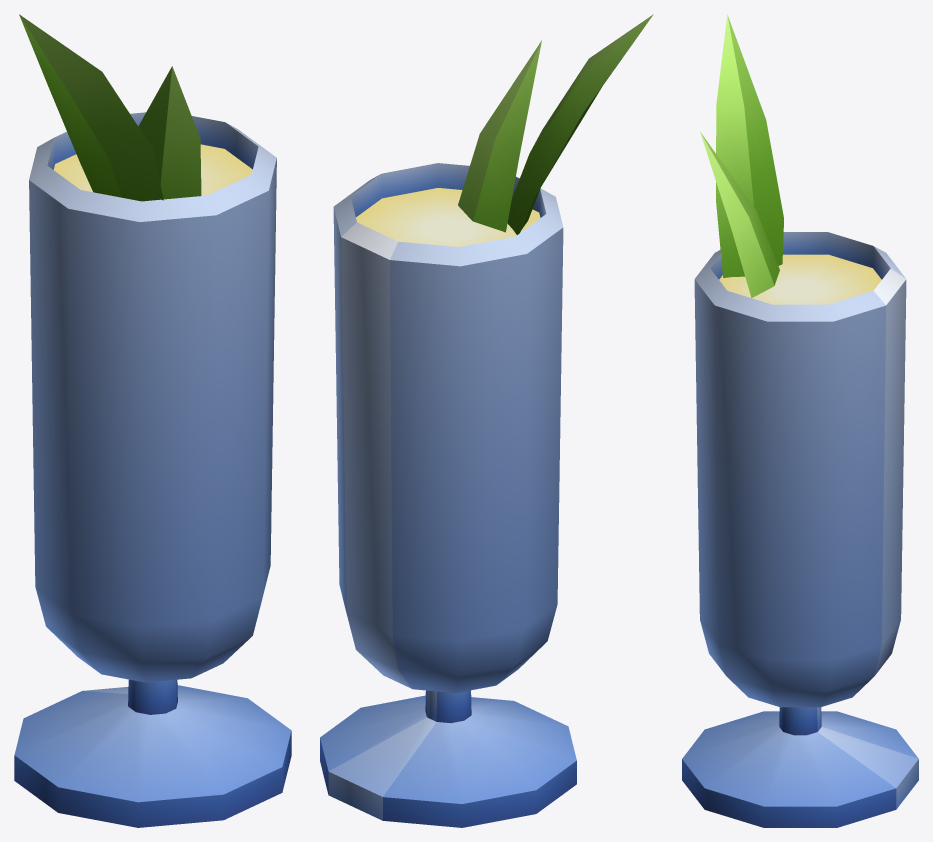
Rendered from m_Cocktail21.fbx.
The picture shows the model from 3 angles, left to right: view 1: azimuth 30°, elevation 25°; view 2: azimuth 150°, elevation 25°; view 3: azimuth 270°, elevation 25°; orthographic projection. The views are drawn at different scales.
Visible parts, largest first — view 1: m_Cocktail21; view 2: m_Cocktail21; view 3: m_Cocktail21.
Part boxes in pixels (bbox=[...]): m_Cocktail21: bbox=[14, 14, 291, 827]; m_Cocktail21: bbox=[320, 14, 653, 827]; m_Cocktail21: bbox=[682, 14, 918, 827].
Size of the model in its own units: 12 by 32.32 by 10.
